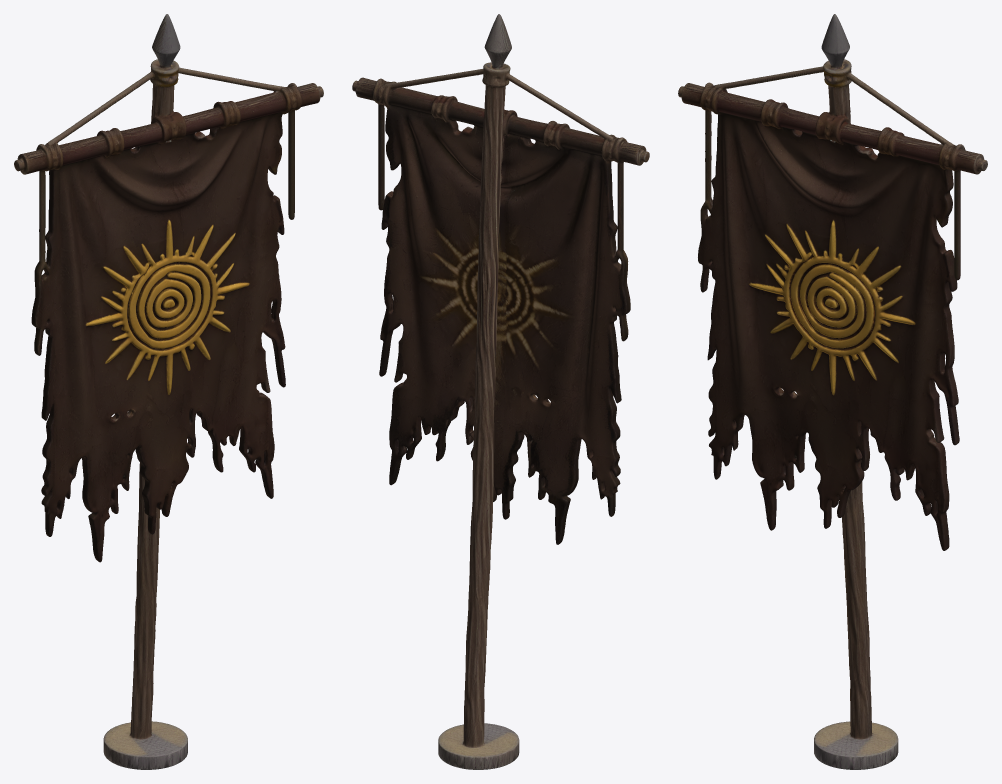
The model's file is TatteredSunBanner.glb.
3 renders of one model, left to right at view 1: azimuth 30°, elevation 25°; view 2: azimuth 150°, elevation 25°; view 3: azimuth 330°, elevation 25°, orthographic. The views are drawn at different scales.
Parts seen in each view (by area): view 1: Mesh_0.001; view 2: Mesh_0.001; view 3: Mesh_0.001.
Boxes of the visible parts, <box> form: Mesh_0.001: <box>14,14,323,769</box>; Mesh_0.001: <box>352,14,649,769</box>; Mesh_0.001: <box>678,14,987,769</box>.
Size of the model in its own units: 1.27 by 3 by 0.3689.
1 material, 1 textured.
